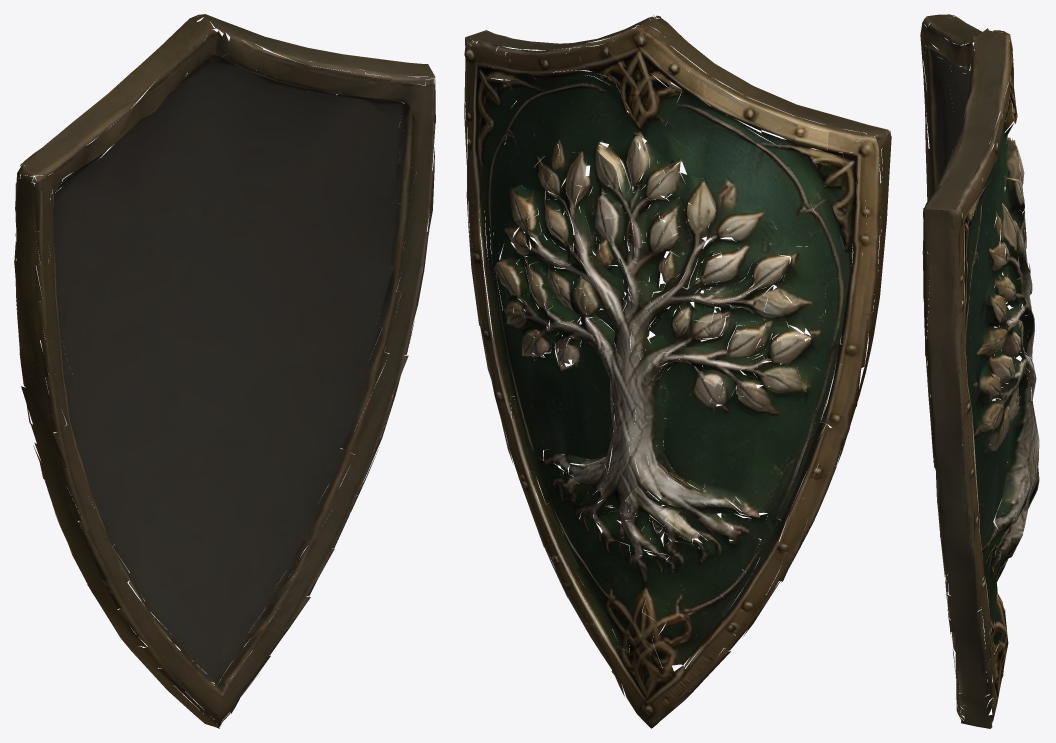
File: kite_tree.glb
3 renders of one model, left to right at view 1: azimuth 30°, elevation 25°; view 2: azimuth 150°, elevation 25°; view 3: azimuth 270°, elevation 25°, orthographic.
Visible parts, largest first — view 1: kite_tree; view 2: kite_tree; view 3: kite_tree.
Boxes of the visible parts, box(x1,y1,x2,y2) form: kite_tree: box(14, 14, 435, 728); kite_tree: box(464, 15, 891, 728); kite_tree: box(920, 14, 1039, 728).
Bounding box in the file's own units: 0.4504 × 0.7359 × 0.1153.
1 material, 1 textured.
